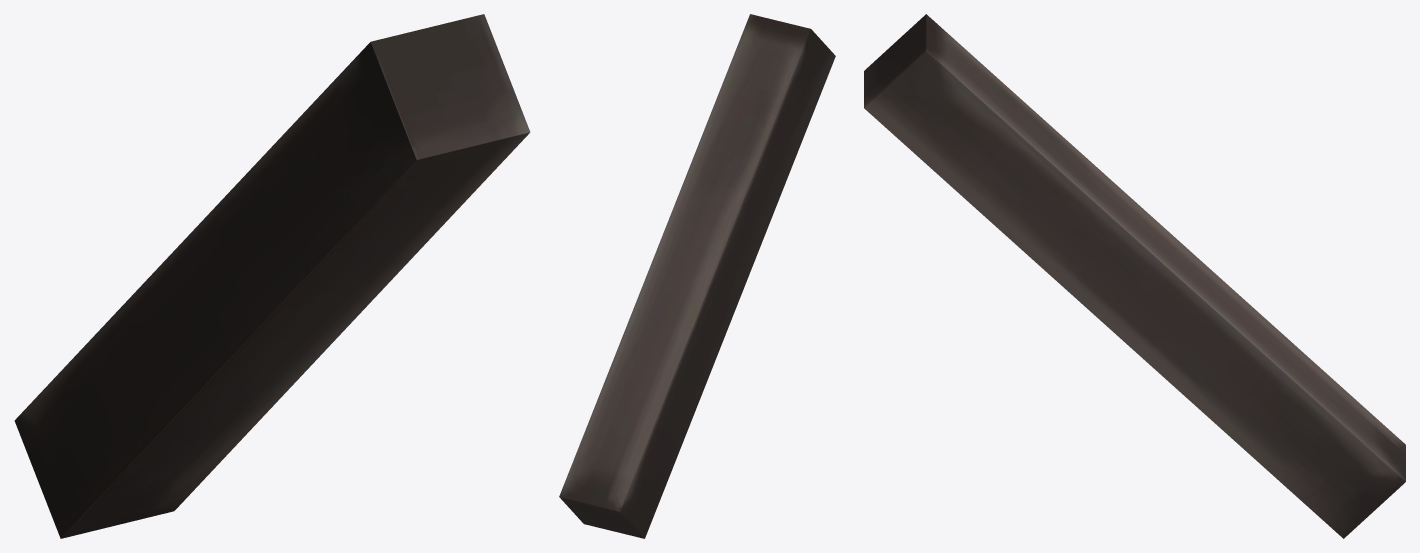
File: main_frame__front_leg_1.glb
3 views of the same model, side by side, from view 1: azimuth 30°, elevation 25°; view 2: azimuth 150°, elevation 25°; view 3: azimuth 270°, elevation 25° (orthographic). The views are drawn at different scales.
Visible parts, largest first — view 1: world; view 2: world; view 3: world.
Part boxes in pixels (x1,y1,x2,y2): world: (14, 14, 530, 538); world: (559, 14, 835, 538); world: (864, 14, 1405, 538).
Size of the model in its own units: 0.055 by 0.3347 by 0.3371.
Materials: 1 (1 with a texture image).
